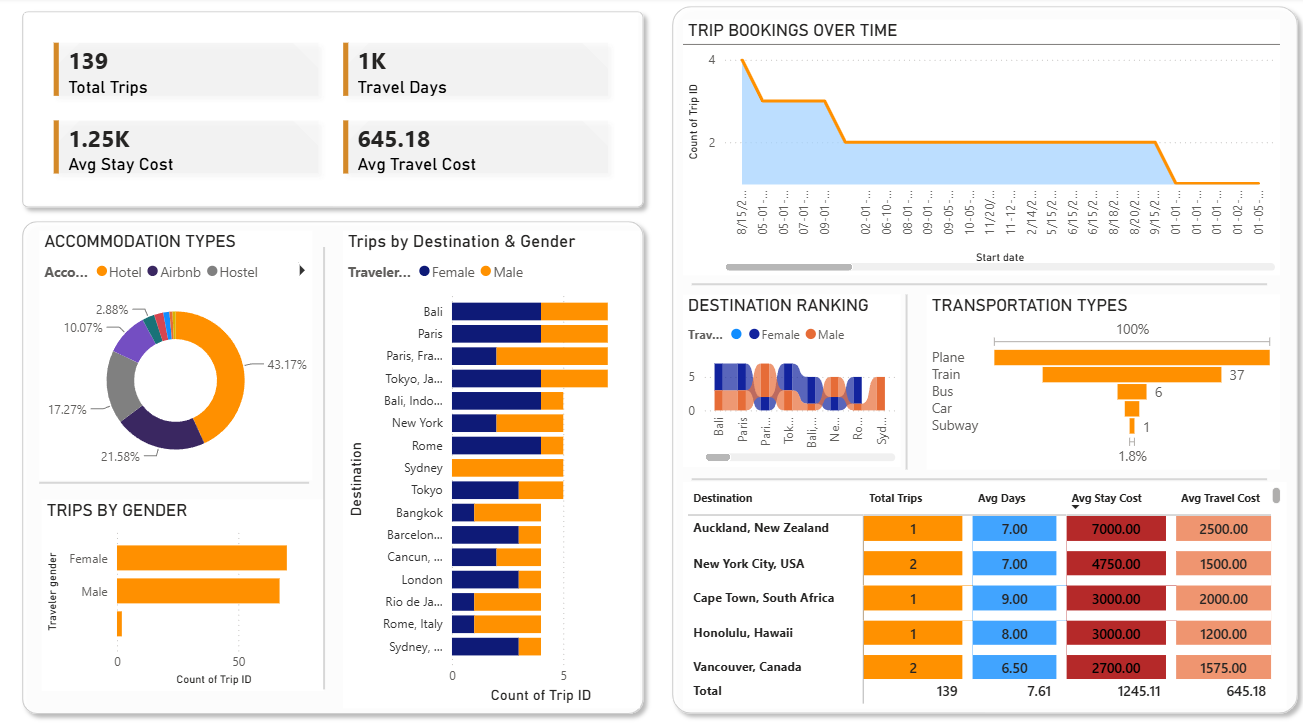

What the dashboard file says about the page in this screenshot:
{"tool":"powerbi","page":{"name":"Page 1","canvas":[1280,720],"ordinal":0},"visuals":[{"type":"shape","box":[14.3,4.3,625.7,210],"z":0},{"type":"cardVisual","fields":{"Data":["CountNonNull(Travel details dataset.Trip ID)","Sum(Travel details dataset.Duration (days))","Avg(Travel details dataset.Accommodation cost)","Avg(Travel details dataset.Transportation cost)"]},"box":[26,16,601,187],"z":1000},{"type":"shape","box":[14.3,210,625.7,500],"z":2000},{"type":"donutChart","title":"ACCOMMODATION TYPES","fields":{"Category":["Travel details dataset.Accommodation type"],"Y":["CountNonNull(Travel details dataset.Trip ID)"]},"box":[40,228.6,267.1,244.3],"z":3000},{"type":"clusteredBarChart","title":"TRIPS BY GENDER","fields":{"Category":["Travel details dataset.Traveler gender"],"Y":["CountNonNull(Travel details dataset.Trip ID)"]},"box":[42.9,491.4,275.7,187.1],"z":4000},{"type":"barChart","title":"Trips by Destination & Gender","fields":{"Category":["Travel details dataset.Destination"],"Y":["CountNonNull(Travel details dataset.Trip ID)"],"Series":["Travel details dataset.Traveler gender"]},"box":[337.1,228.6,290,467.1],"z":5000},{"type":"shape","box":[294.3,244.3,48.6,432.9],"z":6000},{"type":"shape","box":[40,448.6,264.3,52.9],"z":7000},{"type":"shape","box":[650,0,630,710],"z":8000},{"type":"stackedAreaChart","title":"TRIP BOOKINGS OVER TIME","fields":{"Category":["Travel details dataset.Start date"],"Y":["CountNonNull(Travel details dataset.Trip ID)"]},"box":[670,21.4,584.3,250],"z":9000},{"type":"ribbonChart","title":"DESTINATION RANKING","fields":{"Y":["CountNonNull(Travel details dataset.Trip ID)"],"Category":["Travel details dataset.Destination"],"Series":["Travel details dataset.Traveler gender"]},"box":[670,291.4,212.9,168.6],"z":10000},{"type":"funnel","title":"TRANSPORTATION TYPES","fields":{"Category":["Travel details dataset.Transportation type"],"Y":["CountNonNull(Travel details dataset.Trip ID)"]},"box":[908.6,291.4,345.7,171.4],"z":11000},{"type":"pivotTable","fields":{"Rows":["Travel details dataset.Destination"],"Values":["CountNonNull(Travel details dataset.Trip ID)","Avg(Travel details dataset.Duration (days))","Avg(Travel details dataset.Accommodation cost)","Avg(Travel details dataset.Transportation cost)"]},"box":[670,474.3,590,221.4],"z":12000},{"type":"shape","box":[864.3,291.4,48.6,171.4],"z":12001},{"type":"shape","box":[678.6,252.9,562.9,55.7],"z":12002},{"type":"shape","box":[678.6,444.3,562.9,55.7],"z":12003}]}

Visuals, with their boxes in screenshot pixels (x1, y1, x2, y2), scaled from the page's 1280x720 canvas onto the 1303x727 screenshot:
shape: left=15, top=4, right=652, bottom=216
cardVisual - CountNonNull(Travel details dataset.Trip ID) x Sum(Travel details dataset.Duration (days)): left=26, top=16, right=638, bottom=205
shape: left=15, top=212, right=652, bottom=717
"ACCOMMODATION TYPES" donutChart: left=41, top=231, right=313, bottom=477
"TRIPS BY GENDER" clusteredBarChart: left=44, top=496, right=324, bottom=685
"Trips by Destination & Gender" barChart: left=343, top=231, right=638, bottom=702
shape: left=300, top=247, right=349, bottom=684
shape: left=41, top=453, right=310, bottom=506
shape: left=662, top=0, right=1302, bottom=717
"TRIP BOOKINGS OVER TIME" stackedAreaChart: left=682, top=22, right=1277, bottom=274
"DESTINATION RANKING" ribbonChart: left=682, top=294, right=899, bottom=464
"TRANSPORTATION TYPES" funnel: left=925, top=294, right=1277, bottom=467
pivotTable - Travel details dataset.Destination x CountNonNull(Travel details dataset.Trip ID): left=682, top=479, right=1283, bottom=702
shape: left=880, top=294, right=929, bottom=467
shape: left=691, top=255, right=1264, bottom=312
shape: left=691, top=449, right=1264, bottom=505
